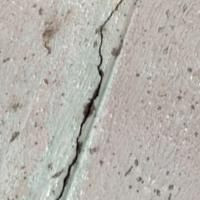crack: (51, 0, 130, 199)
